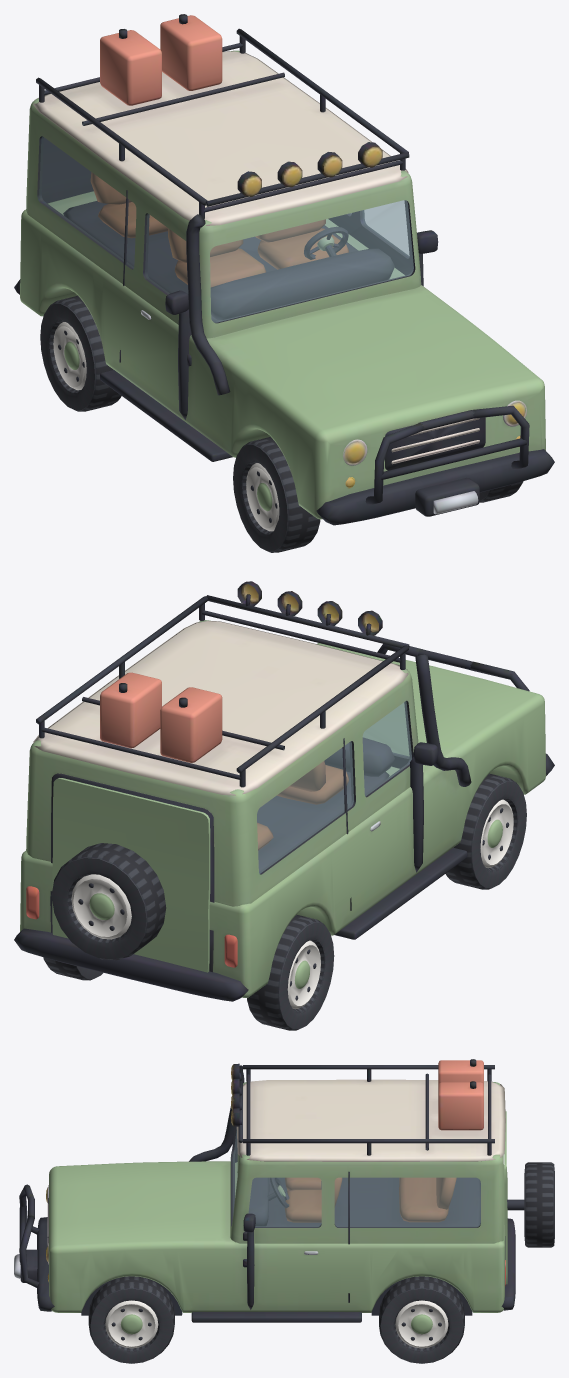
Rendered from veh_offroad.glb.
The picture shows the model from 3 angles, top to bottom: view 1: azimuth 30°, elevation 25°; view 2: azimuth 150°, elevation 25°; view 3: azimuth 270°, elevation 25°; orthographic projection. The views are drawn at different scales.
Parts seen in each view (by area): view 1: off-road-4x4_body, off-road-4x4_windows, off-road-4x4_rear_door; view 2: off-road-4x4_body, off-road-4x4_rear_door, off-road-4x4_windows; view 3: off-road-4x4_body, off-road-4x4_rear_door, off-road-4x4_windows.
Part boxes in pixels (x1,y1,x2,y2): off-road-4x4_body: [14, 14, 554, 525]; off-road-4x4_windows: [39, 136, 413, 322]; off-road-4x4_rear_door: [40, 295, 523, 552]; off-road-4x4_body: [14, 581, 554, 1001]; off-road-4x4_rear_door: [43, 773, 526, 1030]; off-road-4x4_windows: [257, 701, 411, 873]; off-road-4x4_body: [14, 1059, 515, 1322]; off-road-4x4_rear_door: [88, 1111, 554, 1363]; off-road-4x4_windows: [233, 1130, 480, 1226].
Size of the model in its own units: 2.15 by 2.52 by 4.96.
Materials: 6 (2 with a texture image).
